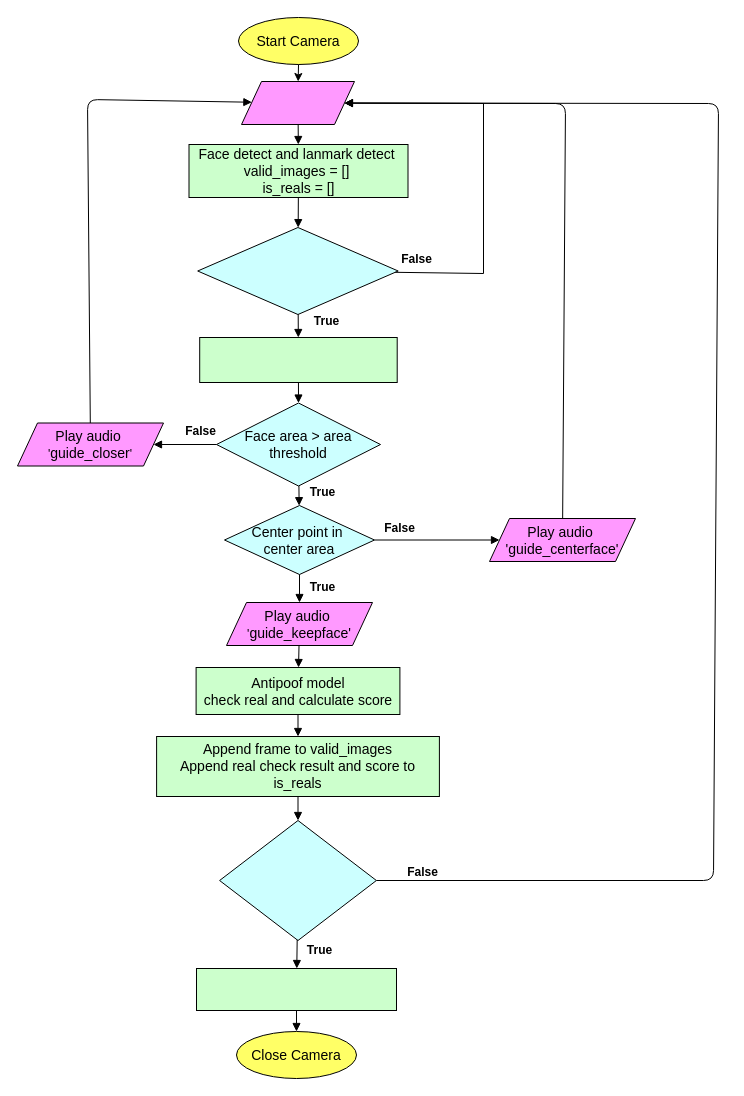
This 744x1096 diagram has some shape labels left out. Each missing label, with the box of its shape:
Calculate face area Caculate face center point: (199, 336, 397, 382)
Collect frame: (240, 80, 354, 124)
Detect face && prob > bbox threshold: (197, 226, 398, 314)
len valid_images > required image: (219, 820, 376, 940)
Return valid_images and is_reals: (196, 968, 396, 1010)
